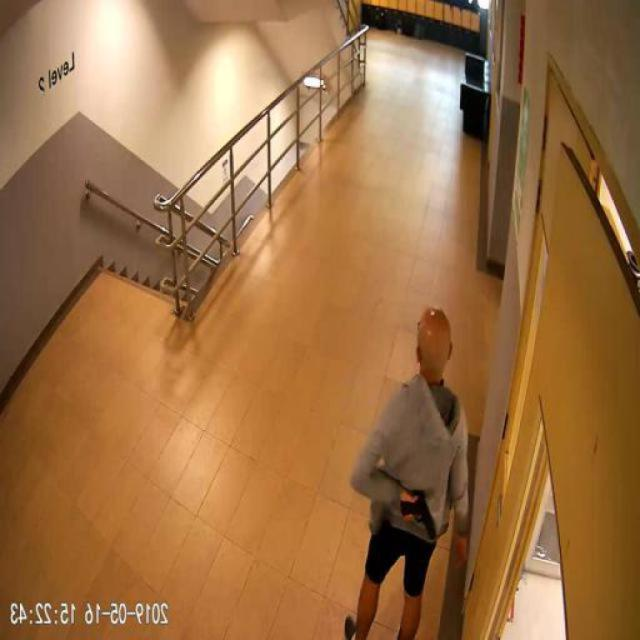pistol: (403, 490, 438, 536)
